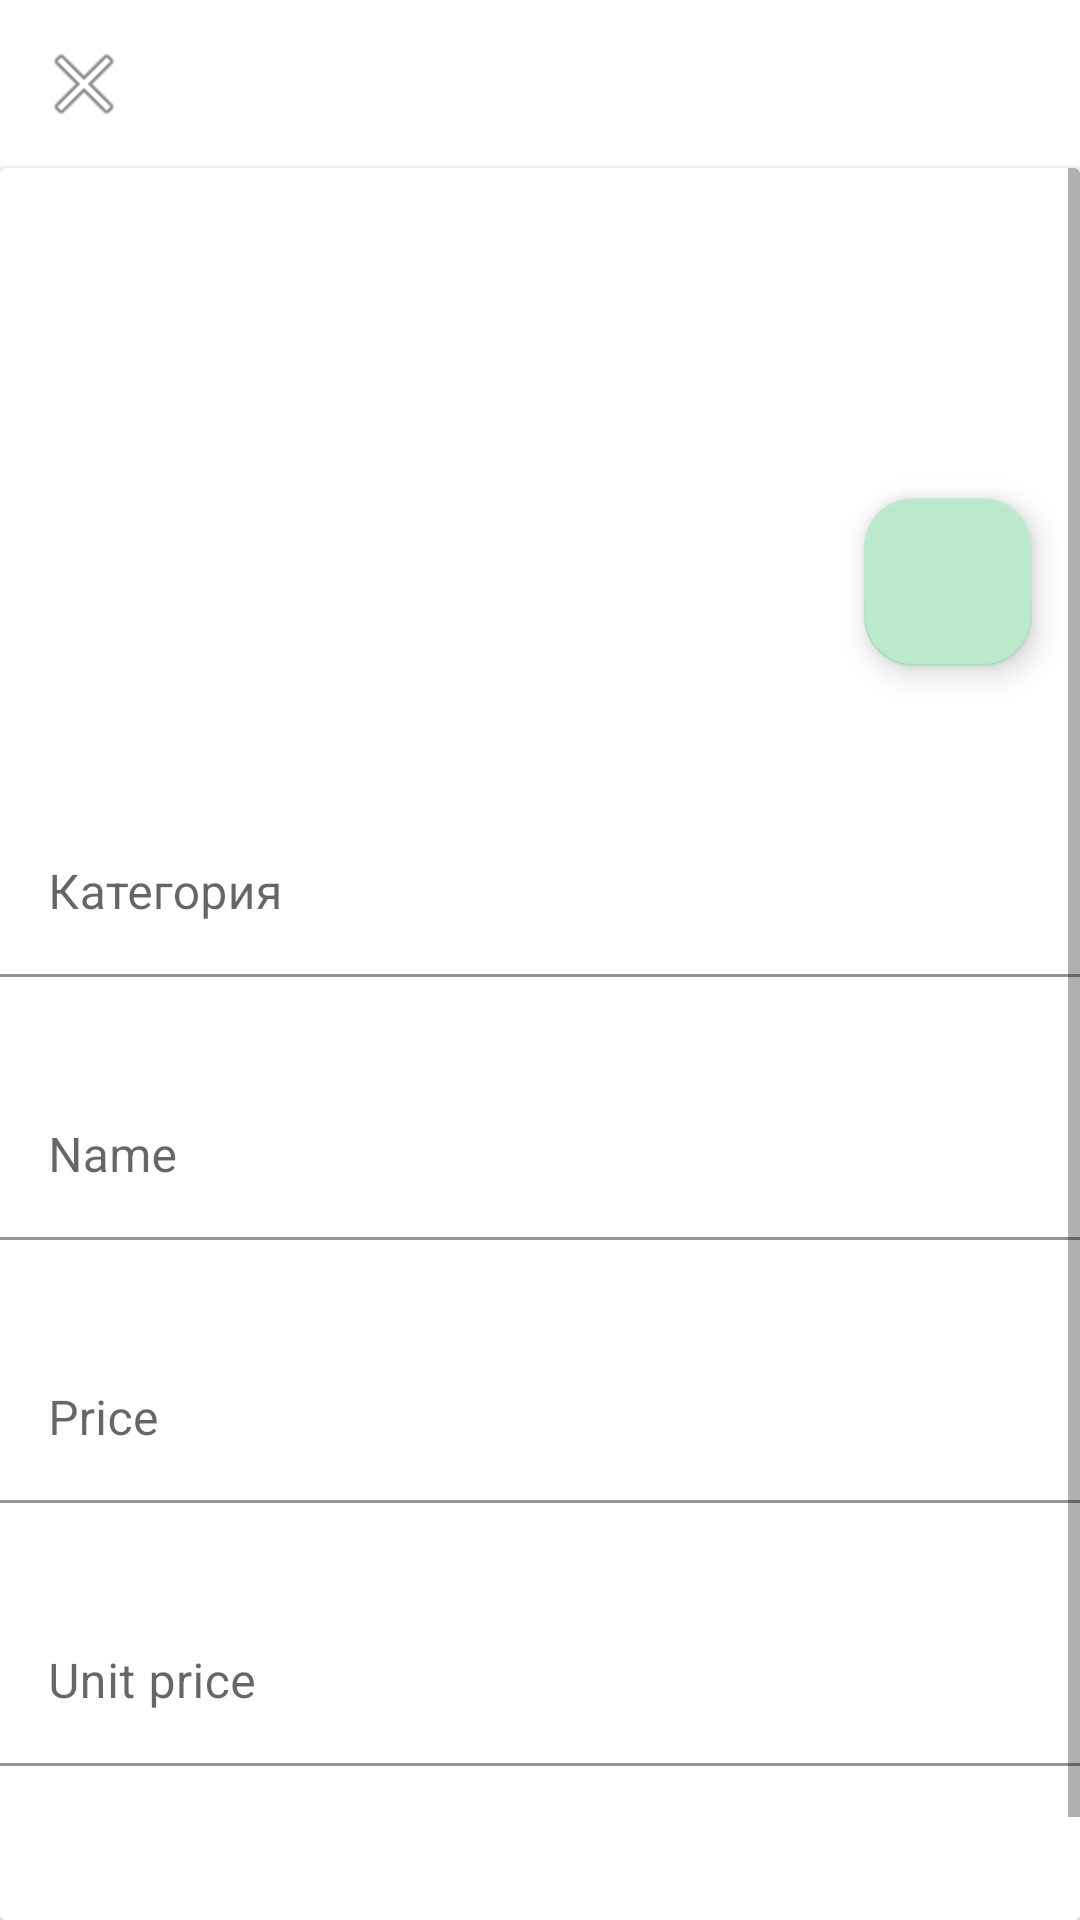

Locate icon controls on the screen. Image size 1080*1920, boxes as (x1, y1, x2, y2).
close clear cancel: (54, 54, 114, 114)
